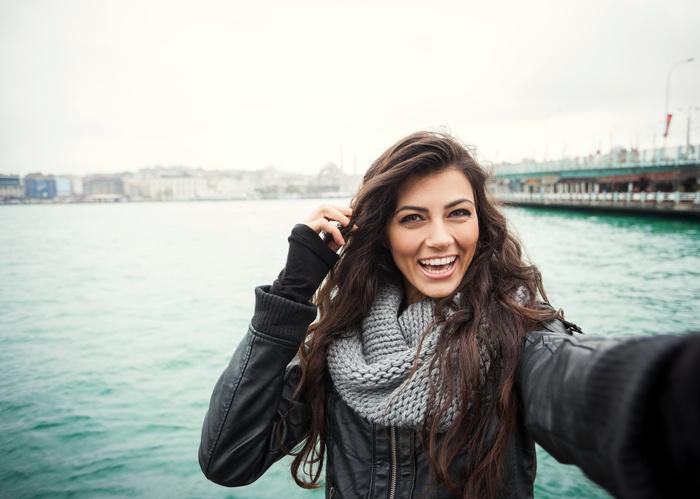face: (388, 169, 480, 300)
